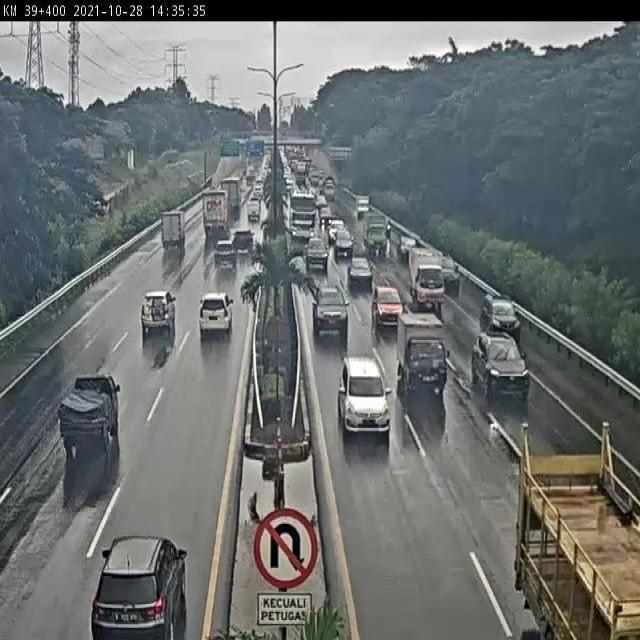car: (89, 535, 190, 637), (59, 377, 124, 460), (394, 312, 450, 399), (341, 355, 395, 441), (472, 332, 528, 391), (197, 288, 239, 343), (140, 289, 177, 331), (314, 279, 346, 324), (486, 295, 520, 332), (373, 280, 400, 316), (211, 244, 236, 275), (348, 255, 372, 284), (302, 232, 327, 259), (232, 231, 252, 255), (436, 257, 452, 284), (244, 203, 261, 227), (331, 230, 348, 254), (354, 195, 370, 217), (400, 236, 417, 256), (325, 216, 340, 231), (252, 188, 264, 203)
truck: (517, 449, 640, 640), (407, 244, 440, 300), (287, 187, 316, 235), (200, 191, 227, 237), (361, 212, 385, 252), (164, 213, 189, 251), (220, 178, 241, 214)
